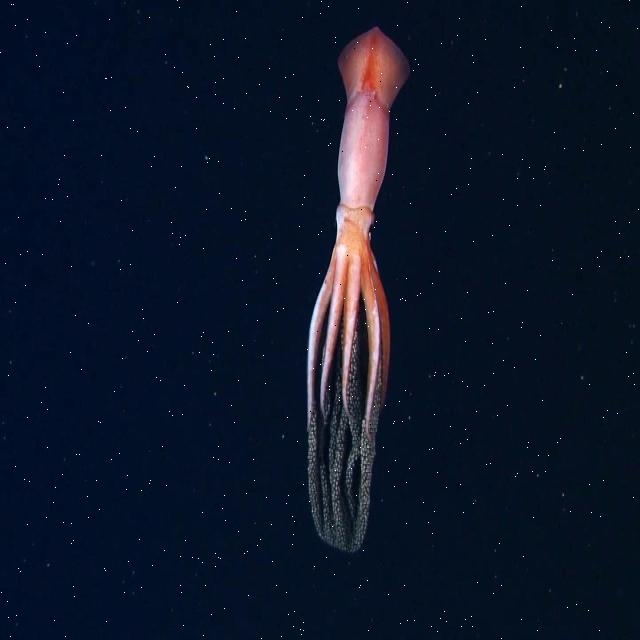reefs: (306, 25, 411, 553)
